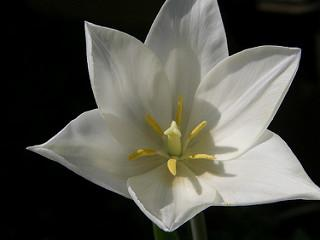tulip: (25, 0, 320, 232)
